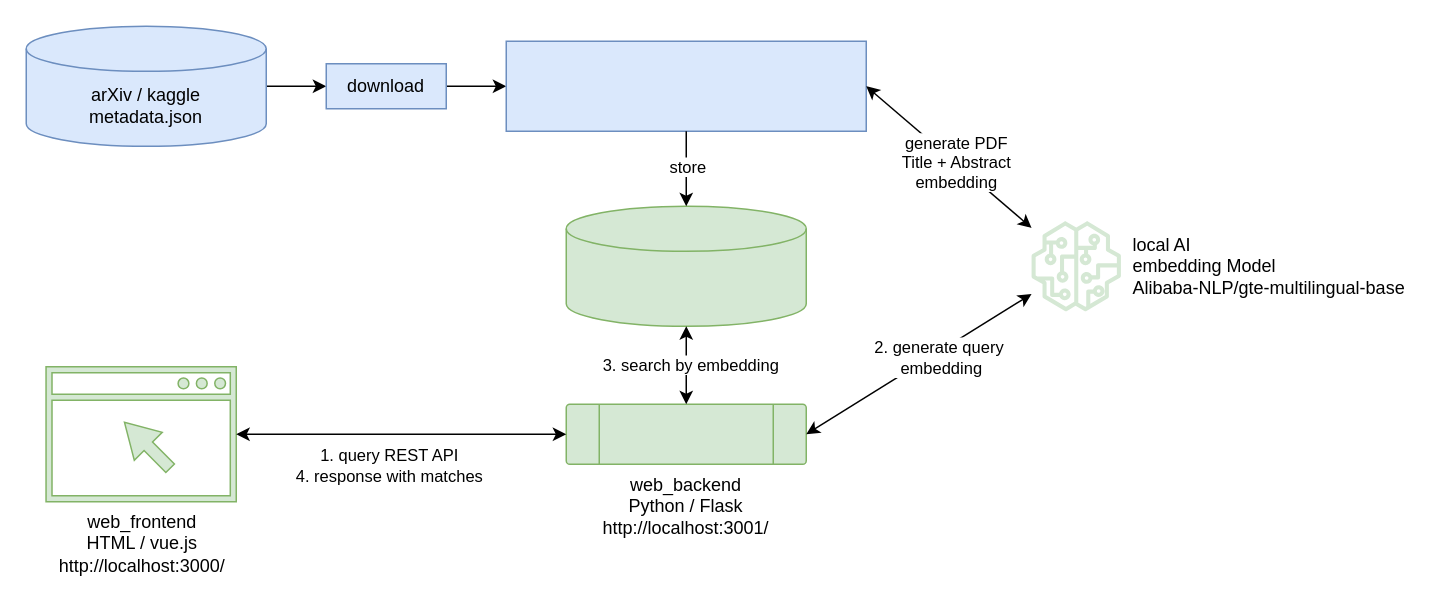
Some shapes in this 1431 by 603 pixel diagram are drawn without their labels. Each missing label, with the centre of its shape:
"local Elastic Search DB http://localhost:9200/" belongs at (685,265).
"process in Python playground_5_elastic_metadata.ipynb" belongs at (685,85).
